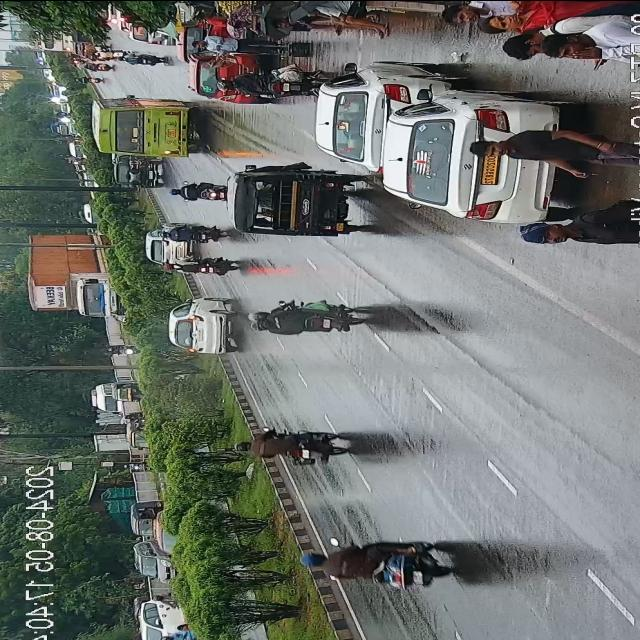2-wheelers: (298, 534, 454, 600), (252, 292, 371, 338), (239, 424, 351, 468), (220, 63, 294, 98), (176, 252, 242, 282), (163, 222, 225, 244), (176, 182, 225, 204), (117, 52, 164, 66), (106, 341, 138, 356)
auto: (230, 167, 374, 244), (128, 500, 162, 538), (123, 412, 157, 448), (112, 382, 142, 402)
bus: (90, 96, 200, 164)
car: (388, 82, 548, 220), (314, 68, 426, 166), (170, 300, 238, 362), (191, 52, 255, 104), (128, 600, 189, 640), (134, 544, 178, 588), (144, 228, 178, 270), (114, 154, 154, 188), (156, 512, 182, 560)
pedestrian: (448, 0, 628, 68), (238, 2, 386, 40), (470, 133, 632, 165), (517, 213, 640, 253), (192, 38, 279, 56)
truck: (27, 233, 121, 315)
